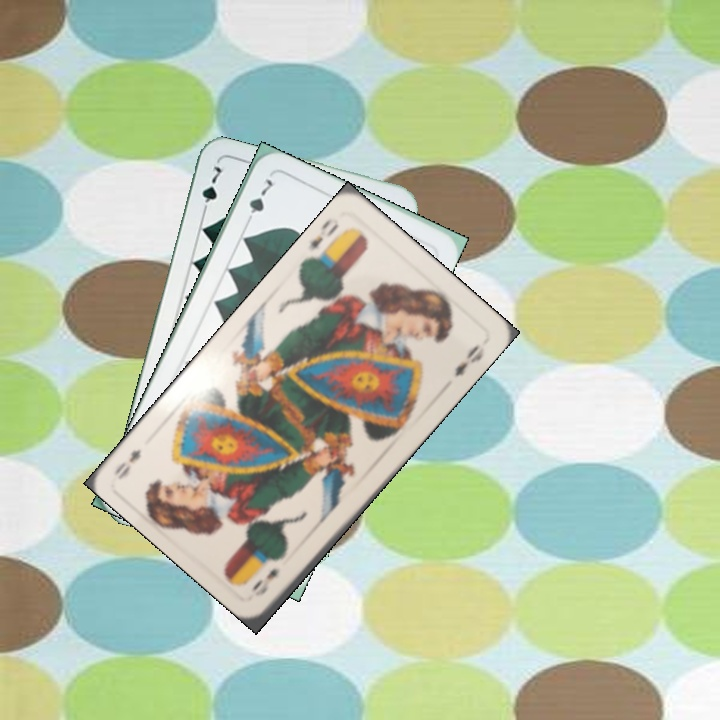EO: (304, 217, 344, 263), (248, 564, 282, 599)
G7: (243, 174, 276, 228), (197, 161, 225, 219)
